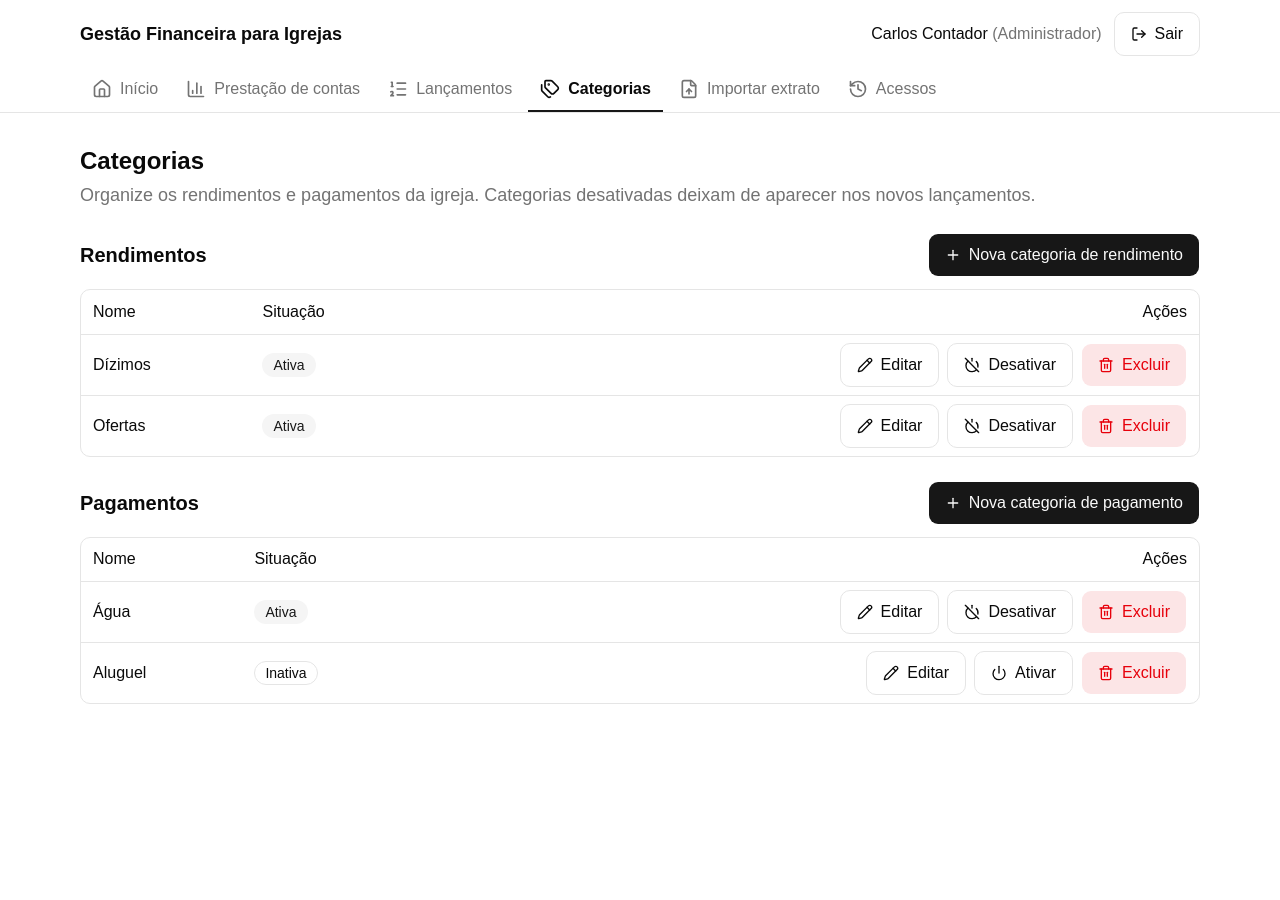
Página de categorias › não deixa mudar o tipo ao editar
Click the button with aria-label "Editar Dízimos".
click(890, 364)  # box x1=840 y1=342 x2=939 y2=386
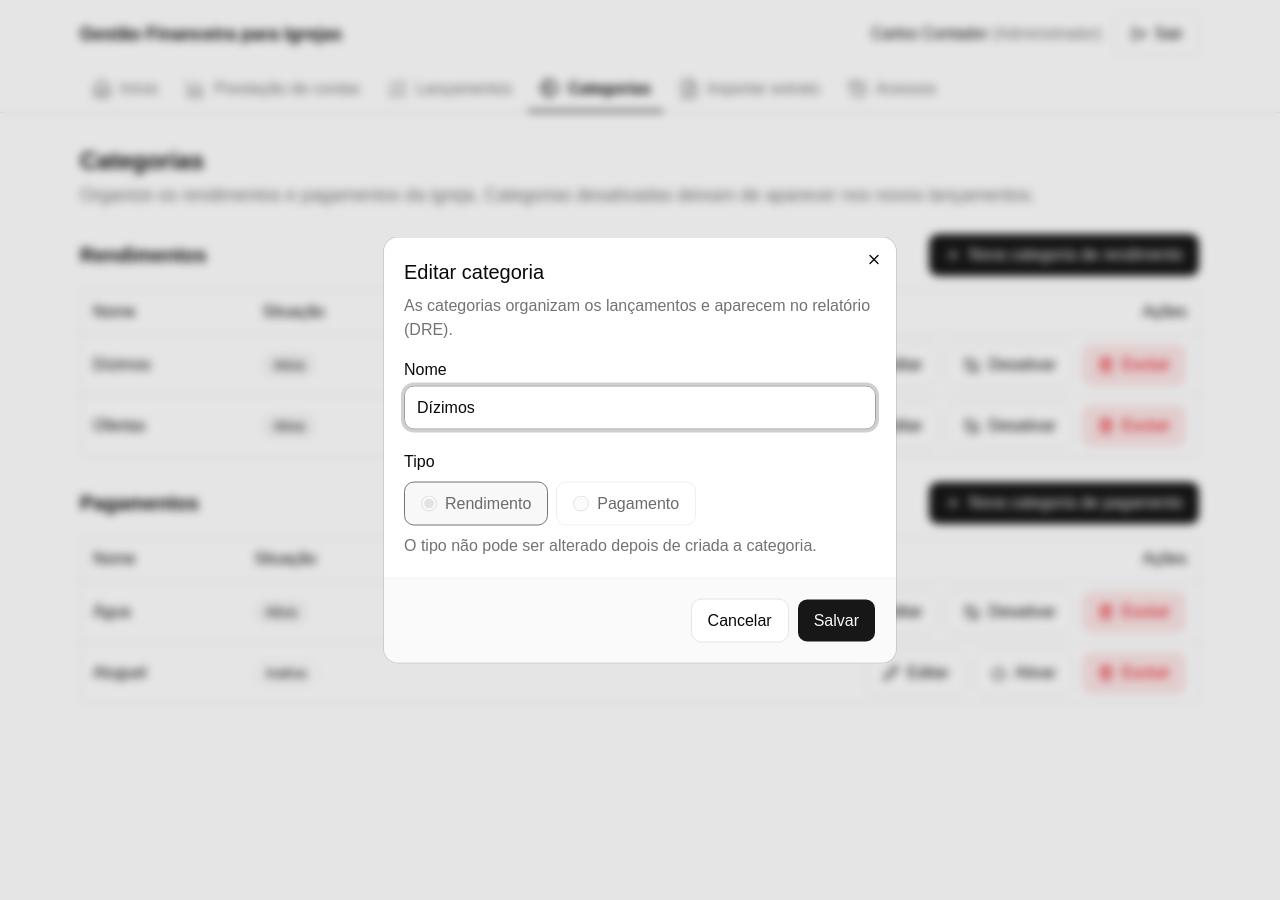
Expected: the field labelled "Nome" holds "Dízimos", x1=404 y1=386 x2=876 y2=430
Expected: the radio button labelled "Pagamento" is disabled, x1=573 y1=496 x2=589 y2=512
Expected: the text "O tipo não pode ser alterado depois de criada a categoria." is shown, x1=404 y1=534 x2=876 y2=558
